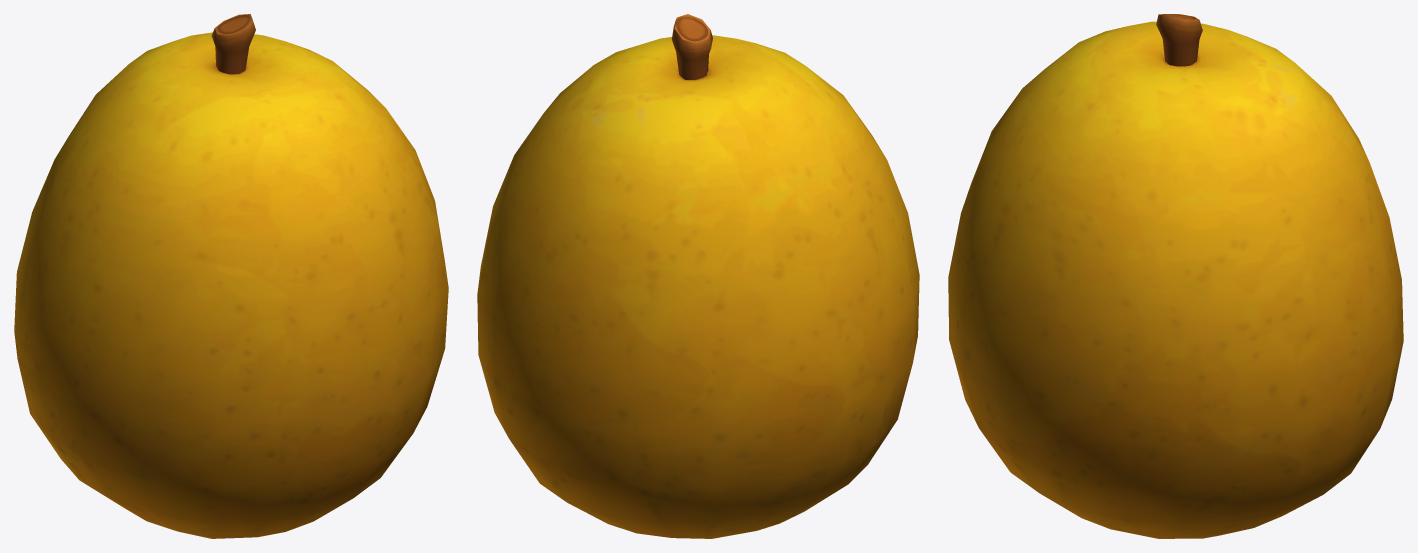
The model's file is SM_PassionFruitYellow.fbx.
3 renders of one model, left to right at view 1: azimuth 30°, elevation 25°; view 2: azimuth 150°, elevation 25°; view 3: azimuth 270°, elevation 25°, orthographic. The views are drawn at different scales.
Parts seen in each view (by area): view 1: SM_PassionFruitYellow; view 2: SM_PassionFruitYellow; view 3: SM_PassionFruitYellow.
Boxes of the visible parts, x1,y1,x2,y2 form: SM_PassionFruitYellow: (14,14,448,538); SM_PassionFruitYellow: (477,14,919,538); SM_PassionFruitYellow: (948,14,1403,538).
Size of the model in its own units: 11.52 by 14.3 by 11.5.
